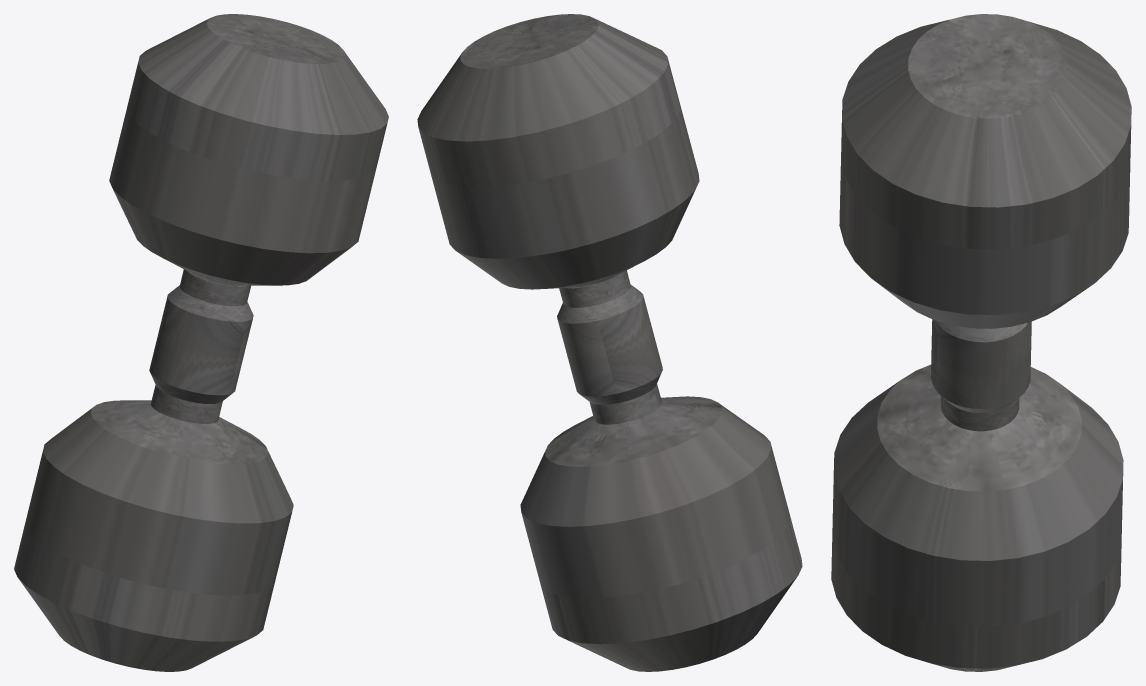
File: newbarbel.obj
3 renders of one model, left to right at view 1: azimuth 30°, elevation 25°; view 2: azimuth 150°, elevation 25°; view 3: azimuth 270°, elevation 25°, orthographic. The views are drawn at different scales.
Visible parts, largest first — view 1: Cylinder; view 2: Cylinder; view 3: Cylinder.
Boxes of the visible parts, x1,y1,x2,y2 form: Cylinder: (14,14,388,671); Cylinder: (417,14,802,671); Cylinder: (831,14,1131,671).
Size of the model in its own units: 0.438 by 0.7344 by 0.2948.
1 material, 1 textured.
